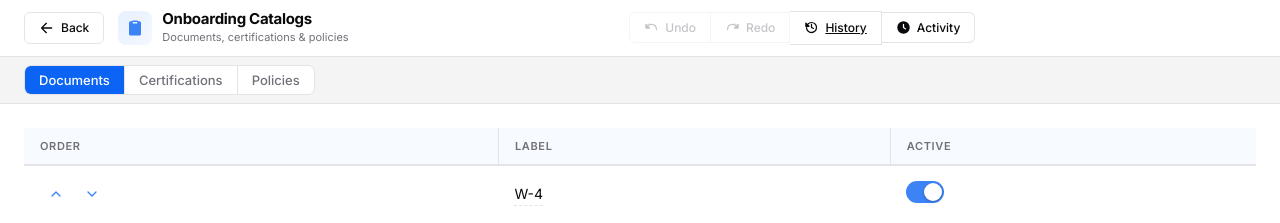
Test: switching to Certifications shows cert rows
Expected: the text "W-4" is shown, [514,182,543,206]
Click the tab "Certifications".
click(181, 80)  # box [125,66,238,94]
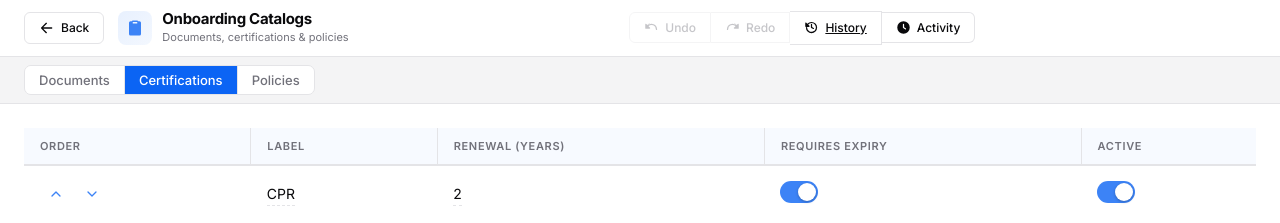
Expected: the text "CPR" is shown, [267,182,295,206]
